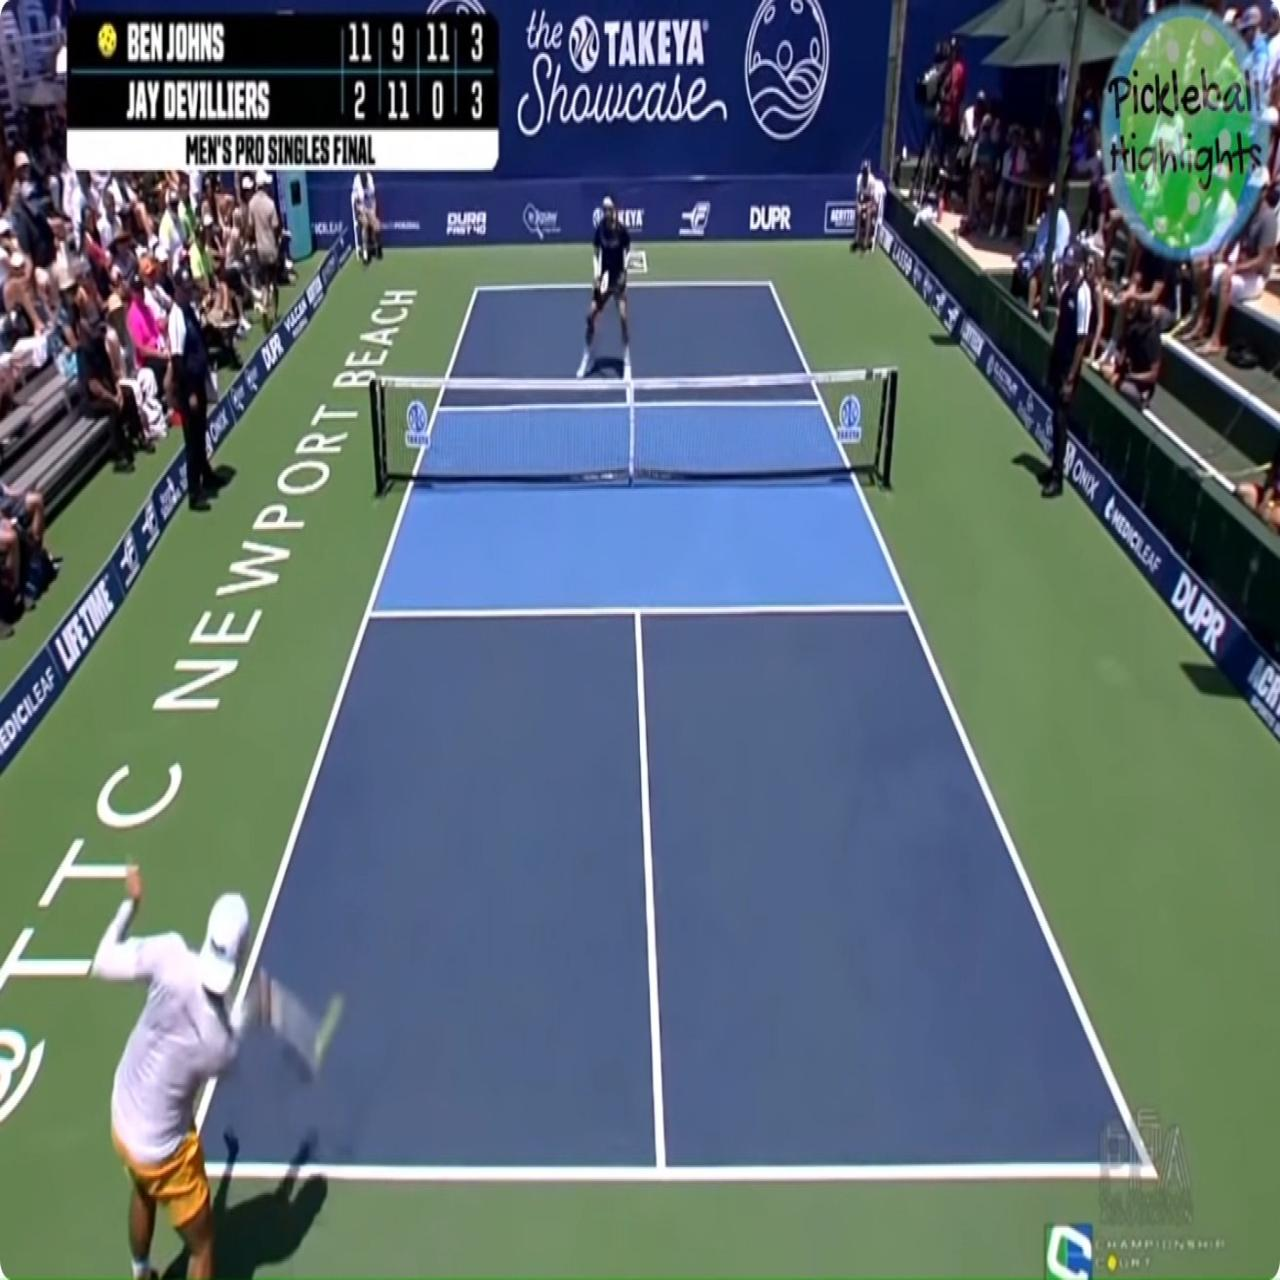pickleball: (313, 993, 345, 1062)
